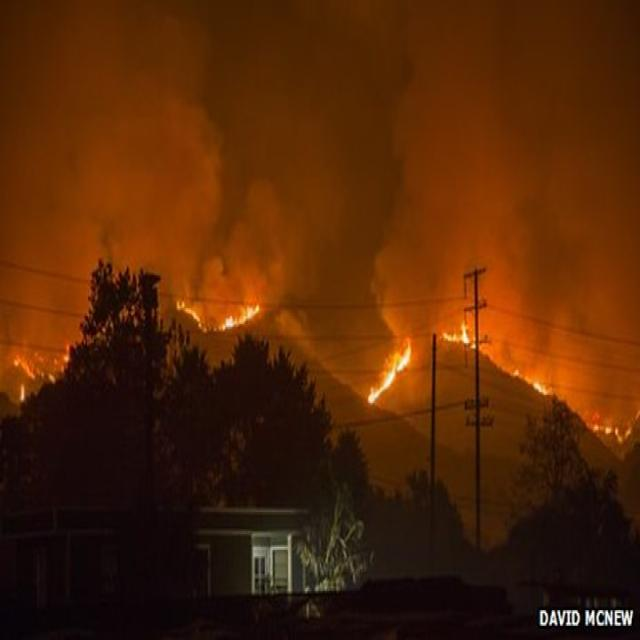Fire: (13, 335, 70, 402), (364, 342, 419, 410), (178, 293, 254, 337), (438, 319, 476, 356), (589, 416, 635, 446), (516, 372, 553, 398)
Smoke: (0, 5, 640, 392)
